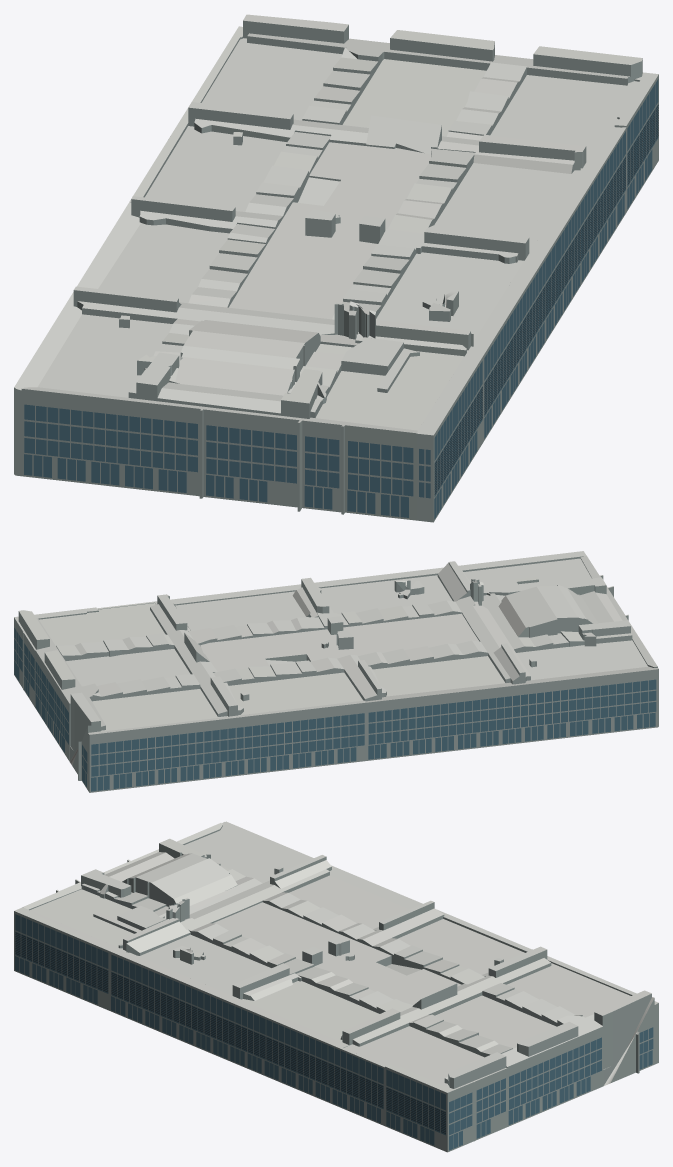
Rendered from jacob-bontiusplaats-9.glb.
3 renders of one model, top to bottom at view 1: azimuth 30°, elevation 25°; view 2: azimuth 150°, elevation 25°; view 3: azimuth 270°, elevation 25°, orthographic. The views are drawn at different scales.
Parts seen in each view (by area): view 1: jacob-bontiusplaats-9; view 2: jacob-bontiusplaats-9; view 3: jacob-bontiusplaats-9.
Boxes of the visible parts, x1,y1,x2,y2 form: jacob-bontiusplaats-9: (14, 14, 658, 522); jacob-bontiusplaats-9: (14, 551, 658, 792); jacob-bontiusplaats-9: (14, 821, 658, 1152).
Bounding box in the file's own units: 187 × 26.71 × 188.
